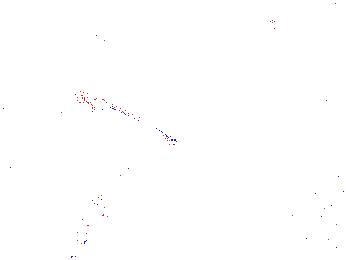X-ray fish: (62, 187, 95, 215)
glassfish: (75, 92, 189, 164), (75, 164, 134, 260)
red belly glassfish: (236, 7, 280, 31)
